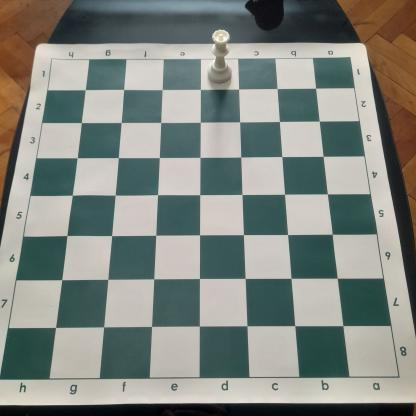white-queen: (206, 27, 234, 84)
